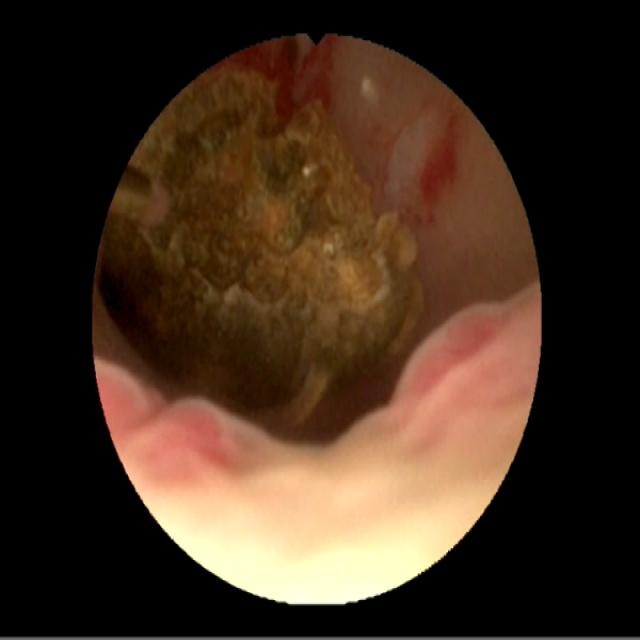stone: (102, 71, 422, 409)
tissue: (98, 42, 527, 588)
